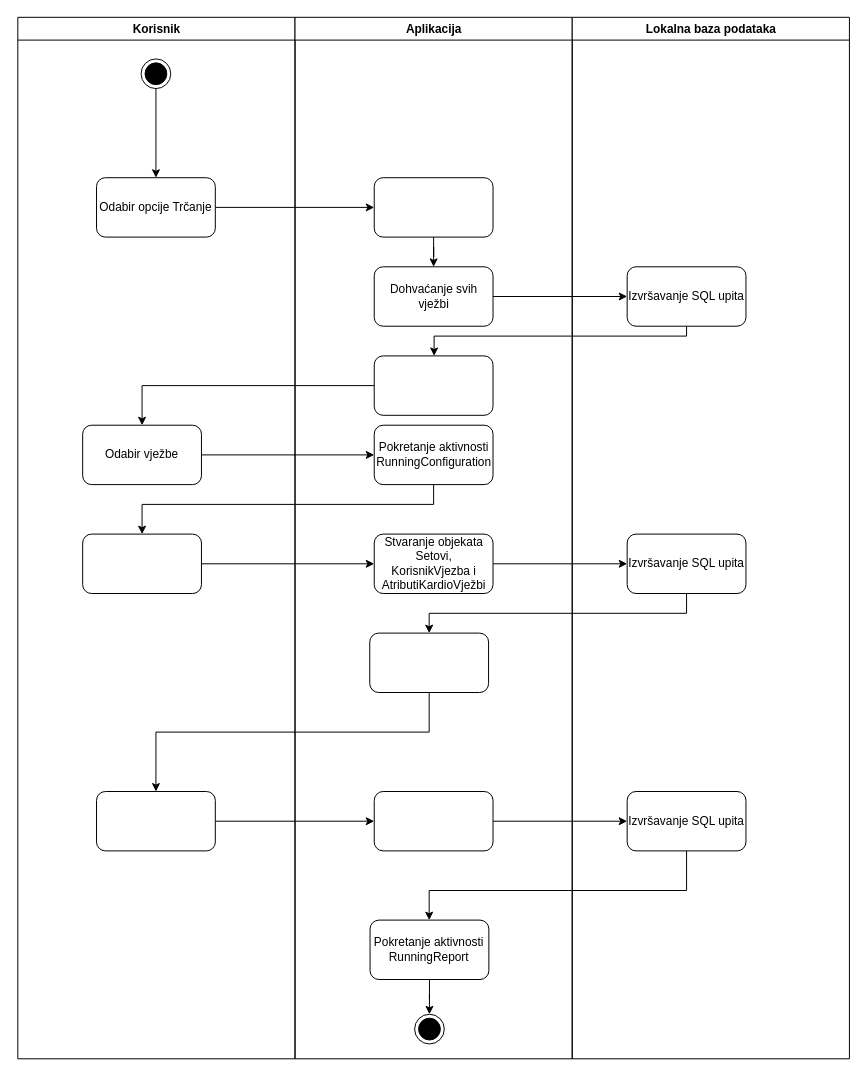
Some shapes in this 866 by 1076 pixel diagram are drawn without their labels. Here are the shapes that lost their labels. From the top down, the centre of each, then its label:
the point at 433,207: Pokretanje aktivnosti ExerciseSelection
the point at 433,385: Prikaz svih vježbi
the point at 141,563: Konfiguriranje vježbe
the point at 429,662: Pokretanje aktivnosti RunningInsturctor
the point at 155,821: Izvršavanje vježbe
the point at 433,821: Spremanje objekata Setovi, KorisnikVjezba i AtributiKardioVježbi
